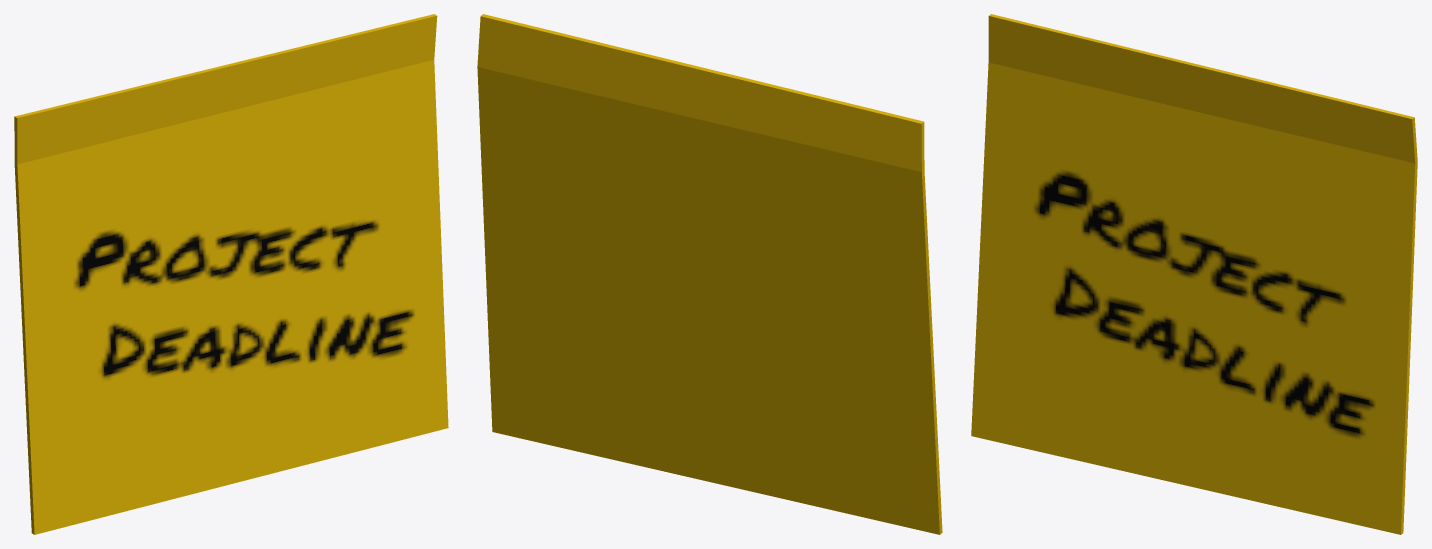
The model's file is StickyNotesV5Yellow_T.fbx.
3 views of the same model, side by side, from view 1: azimuth 30°, elevation 25°; view 2: azimuth 150°, elevation 25°; view 3: azimuth 330°, elevation 25° (orthographic). The views are drawn at different scales.
Visible parts, largest first — view 1: StickyNotesV5Yellow_T; view 2: StickyNotesV5Yellow_T; view 3: StickyNotesV5Yellow_T.
Boxes of the visible parts, x1,y1,x2,y2 form: StickyNotesV5Yellow_T: (14, 14, 448, 534); StickyNotesV5Yellow_T: (477, 14, 942, 534); StickyNotesV5Yellow_T: (971, 14, 1417, 534).
Bounding box in the file's own units: 5.41 × 4.97 × 0.5116.
